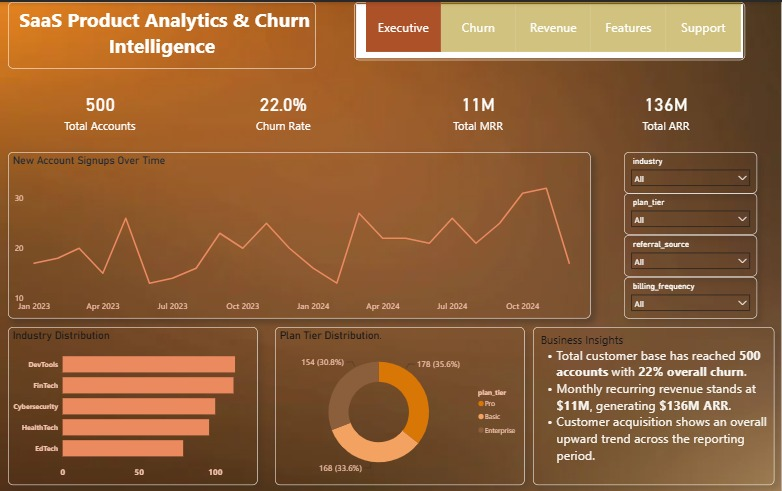

This screenshot's page, from the dashboard's own definition file:
{"tool":"powerbi","page":{"name":"Executive Overview","canvas":[1501,942],"ordinal":0},"visuals":[{"type":"card","fields":{"Values":["DAX_Measures.Total Accounts"]},"box":[48,144,288,128],"z":1000},{"type":"textbox","box":[16,0,592,128],"z":4000},{"type":"card","fields":{"Values":["DAX_Measures.Churn Rate"]},"box":[384,144,320,128],"z":5000},{"type":"card","fields":{"Values":["DAX_Measures.Total MRR"]},"box":[768,144,304,128],"z":7000},{"type":"lineChart","title":"New Account Signups Over Time","fields":{"Y":["DAX_Measures.Total Accounts"],"Category":["accounts_clean.signup_date.Variation.Date Hierarchy.Year","accounts_clean.signup_date.Variation.Date Hierarchy.Month"]},"box":[16,288,1120,320],"z":8000},{"type":"card","fields":{"Values":["DAX_Measures.Total ARR"]},"box":[1136,144,288,128],"z":10000},{"type":"clusteredBarChart","title":"Industry Distribution","fields":{"Category":["accounts_clean.industry"],"Y":["DAX_Measures.Total Accounts"]},"box":[16,624,480,304],"z":11000},{"type":"donutChart","title":"Plan Tier Distribution.","fields":{"Category":["accounts_clean.plan_tier"],"Y":["DAX_Measures.Total Accounts"]},"box":[528,624,480,304],"z":13000},{"type":"slicer","fields":{"Values":["accounts_clean.industry"]},"box":[1200,288,256,80],"z":14000},{"type":"slicer","fields":{"Values":["accounts_clean.plan_tier"]},"box":[1200,368,256,80],"z":15000},{"type":"slicer","fields":{"Values":["accounts_clean.referral_source"]},"box":[1200,448,256,80],"z":16000},{"type":"slicer","fields":{"Values":["subscriptions_clean.billing_frequency"]},"box":[1200,528,256,80],"z":17000},{"type":"shape","box":[681,0,752,112],"z":18000},{"type":"actionButton","title":"Executive","box":[704,0,144,96],"z":19500},{"type":"actionButton","box":[848,0,144,96],"z":20000},{"type":"actionButton","box":[992,0,144,96],"z":21000},{"type":"actionButton","box":[1136,0,144,96],"z":22000},{"type":"actionButton","box":[1280,0,144,96],"z":23000},{"type":"textbox","box":[1024,624,464,304],"z":24000}]}

Visuals, with their boxes in screenshot pixels (x1, y1, x2, y2), scaled from the page's 1501x942 canvas onto the 782x491 screenshot:
card - DAX_Measures.Total Accounts: (left=25, top=75, right=175, bottom=142)
textbox: (left=8, top=0, right=317, bottom=67)
card - DAX_Measures.Churn Rate: (left=200, top=75, right=367, bottom=142)
card - DAX_Measures.Total MRR: (left=400, top=75, right=558, bottom=142)
"New Account Signups Over Time" lineChart: (left=8, top=150, right=592, bottom=317)
card - DAX_Measures.Total ARR: (left=592, top=75, right=742, bottom=142)
"Industry Distribution" clusteredBarChart: (left=8, top=325, right=258, bottom=484)
"Plan Tier Distribution." donutChart: (left=275, top=325, right=525, bottom=484)
slicer - accounts_clean.industry: (left=625, top=150, right=759, bottom=192)
slicer - accounts_clean.plan_tier: (left=625, top=192, right=759, bottom=234)
slicer - accounts_clean.referral_source: (left=625, top=234, right=759, bottom=275)
slicer - subscriptions_clean.billing_frequency: (left=625, top=275, right=759, bottom=317)
shape: (left=355, top=0, right=747, bottom=58)
"Executive" actionButton: (left=367, top=0, right=442, bottom=50)
actionButton: (left=442, top=0, right=517, bottom=50)
actionButton: (left=517, top=0, right=592, bottom=50)
actionButton: (left=592, top=0, right=667, bottom=50)
actionButton: (left=667, top=0, right=742, bottom=50)
textbox: (left=533, top=325, right=775, bottom=484)
